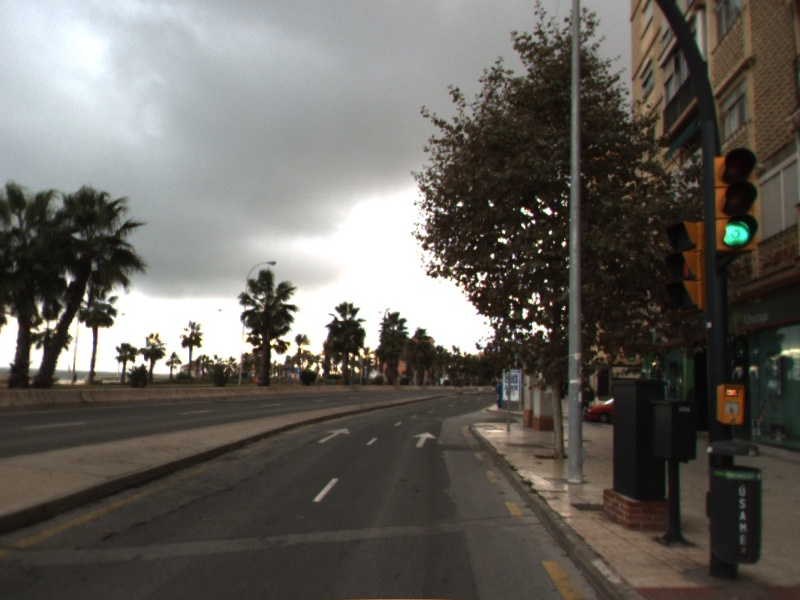STRAIGHT: (316, 426, 352, 444), (411, 430, 438, 449)
